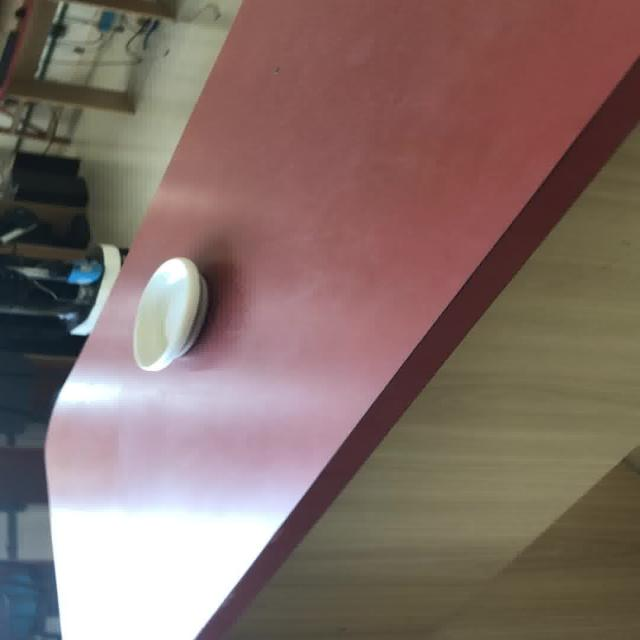plate: (132, 256, 208, 372)
